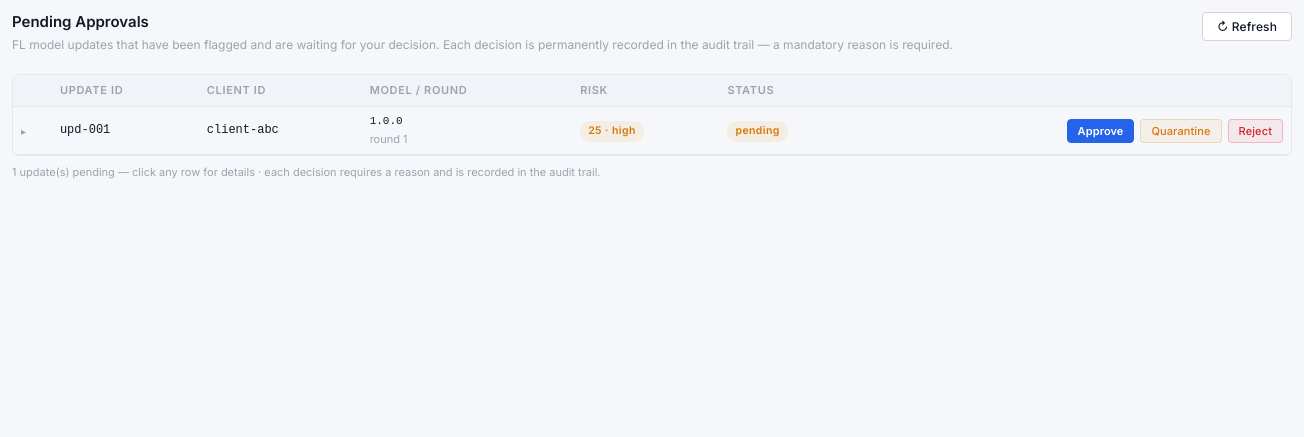
it: Approvals › submits approve with reason and shows success
Step 1. Click the button "Approve" → (1101, 131), box [1067,119,1134,143]
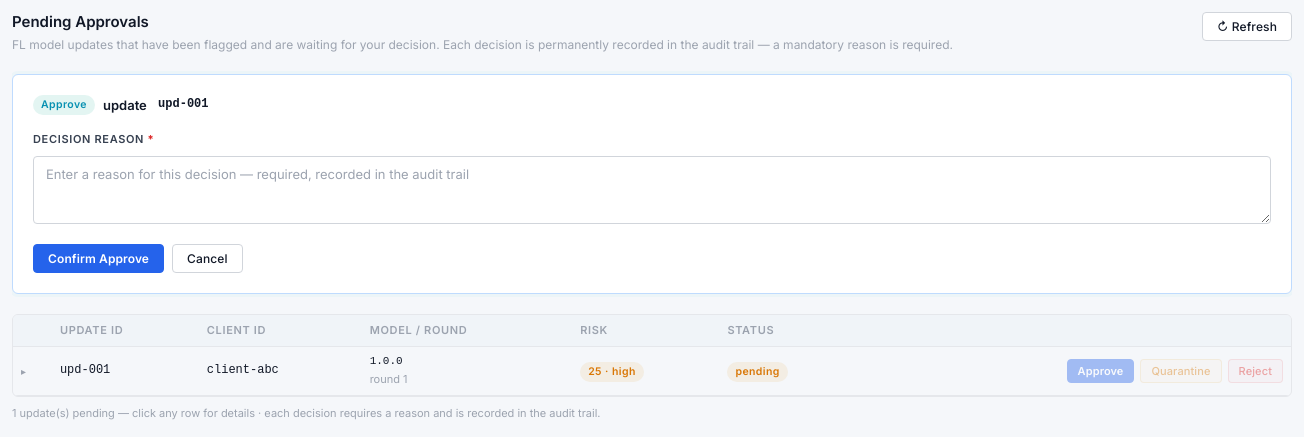
Step 2. Type "Looks good" into the text box labelled "Decision Reason *" → (652, 190), box [33,156,1271,224]
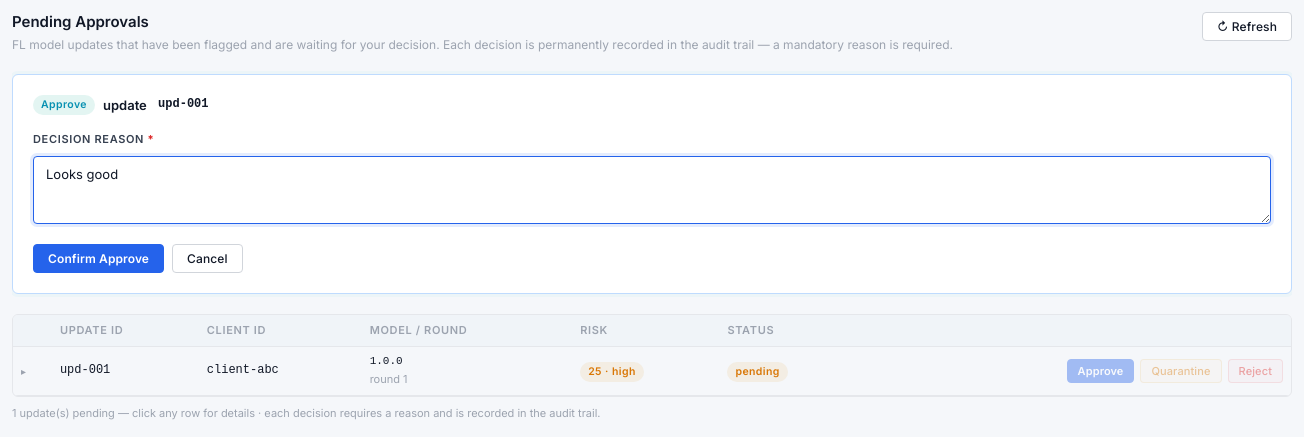
Step 3. Click the button "Confirm Approve" → (99, 258), box [33,244,164,273]
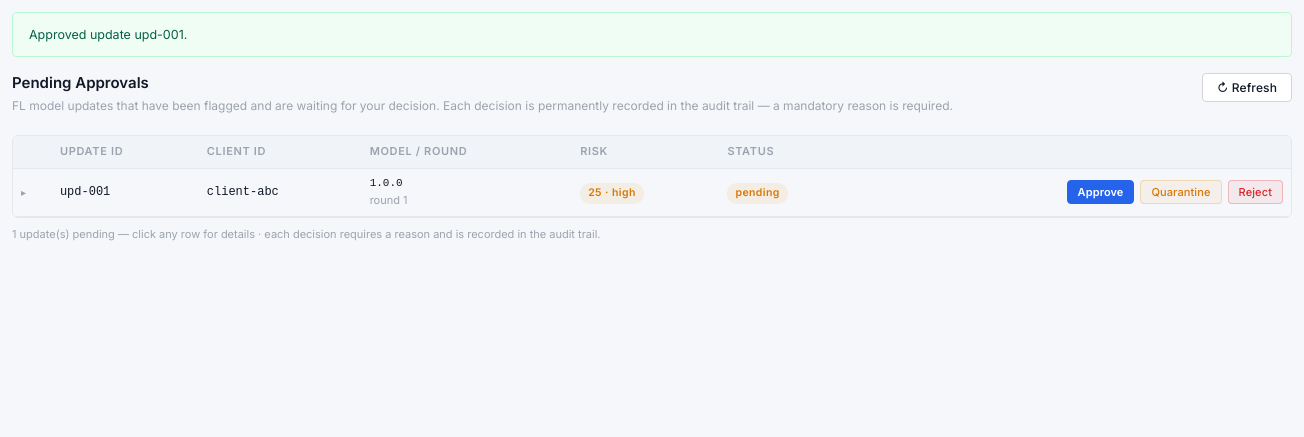
Now the text "Approved update upd-001." is shown, box [12,12,1292,57]
